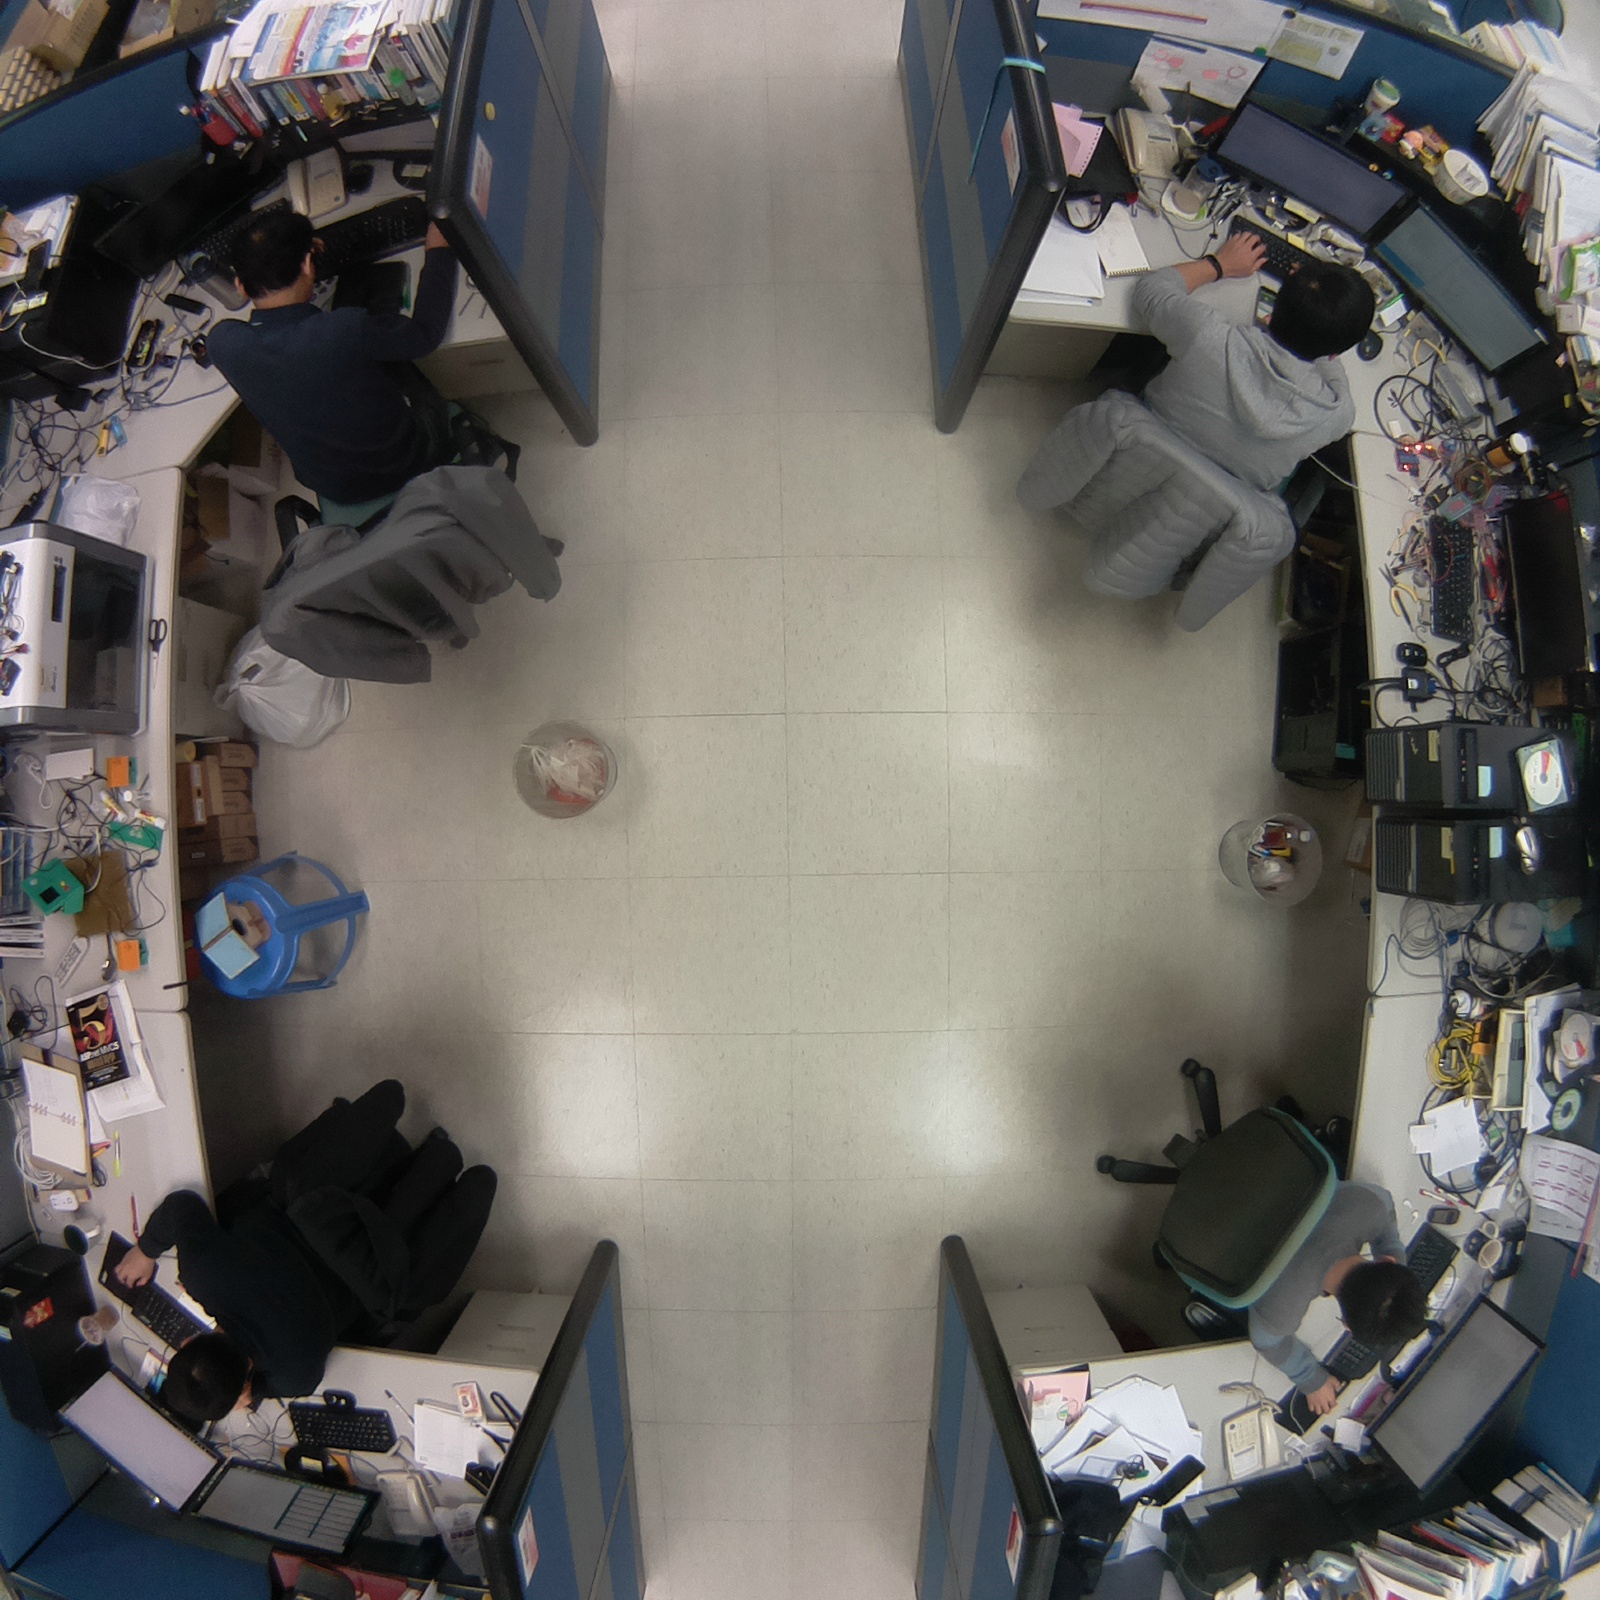head: (223, 200, 329, 321), (1266, 259, 1380, 368), (1332, 1255, 1438, 1361), (157, 1325, 251, 1429)
sitting: (201, 193, 576, 709), (1006, 227, 1401, 645), (109, 1068, 529, 1442), (1073, 1045, 1447, 1417)
